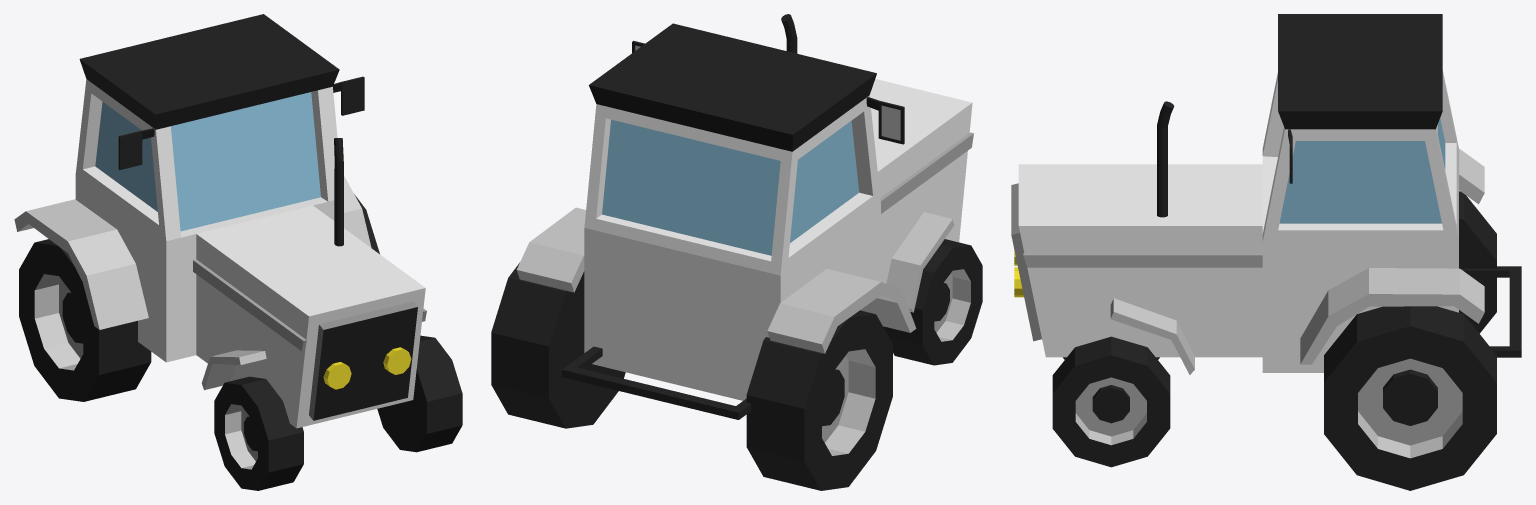
The model's file is tractor.gltf.
3 views of the same model, side by side, from view 1: azimuth 30°, elevation 25°; view 2: azimuth 150°, elevation 25°; view 3: azimuth 270°, elevation 25° (orthographic). The views are drawn at different scales.
Visible parts, largest first — view 1: chassis, extra-car-stuff, back-right-tire, front-right-tire, front-left-tire; view 2: chassis, extra-car-stuff, back-right-tire, back-left-tire, front-right-tire; view 3: chassis, back-left-tire, extra-car-stuff, front-left-tire, back-right-tire.
Boxes of the visible parts, box(x1,y1,x2,y2) form: chassis: box(14, 14, 426, 428); extra-car-stuff: box(95, 76, 411, 389); back-right-tire: box(19, 239, 151, 401); front-right-tire: box(214, 376, 303, 490); front-left-tire: box(377, 335, 462, 452); chassis: box(516, 23, 973, 419); extra-car-stuff: box(602, 14, 904, 255); back-right-tire: box(746, 310, 892, 490); back-left-tire: box(491, 262, 625, 428); front-right-tire: box(883, 239, 982, 365); chassis: box(1011, 14, 1521, 374); back-left-tire: box(1324, 306, 1496, 490); extra-car-stuff: box(1014, 101, 1445, 297); front-left-tire: box(1052, 336, 1170, 467); back-right-tire: box(1459, 191, 1496, 333).
Size of the model in its own units: 4.61 by 4.82 by 6.43.
1 material, 1 textured.
